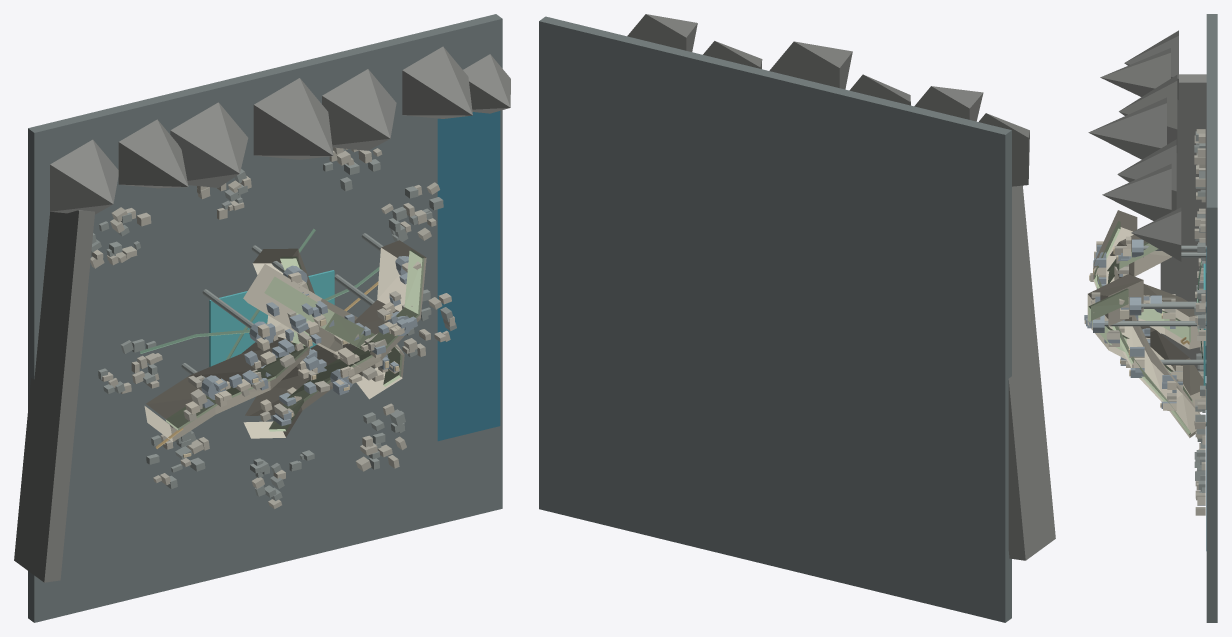
The model's file is B1-Monsoon-Folds.glb.
The picture shows the model from 3 angles, left to right: view 1: azimuth 30°, elevation 25°; view 2: azimuth 150°, elevation 25°; view 3: azimuth 270°, elevation 25°; orthographic projection. The views are drawn at different scales.
Parts seen in each view (by area): view 1: 10km_study_terrain, east_artificial_inland_sea, west_cliff_face, north_mountain_peak_4, inhabited_ecological_fold_2, inhabited_ecological_fold_1, north_mountain_peak_3, north_mountain_peak_5, north_mountain_peak_6, north_mountain_peak_1, north_mountain_peak_2, seasonal_floodplain_wet (+5 smaller); view 2: 10km_study_terrain, west_cliff_face, north_mountain_peak_4, north_mountain_peak_6, north_mountain_peak_2, north_mountain_peak_1, north_mountain_peak_3, north_mountain_peak_5; view 3: 10km_study_terrain, west_cliff_face, inhabited_ecological_fold_3, inhabited_ecological_fold_2, north_mountain_peak_4, north_mountain_peak_6, north_mountain_peak_2, inhabited_ecological_fold_1, north_mountain_peak_7, north_mountain_peak_5, north_mountain_peak_3, seasonal_habitat_band_1 (+10 smaller).
Boxes of the visible parts, x1=… form: 10km_study_terrain: x1=28, y1=14, x2=502, y2=622; east_artificial_inland_sea: x1=437, y1=111, x2=500, y2=441; west_cliff_face: x1=14, y1=210, x2=94, y2=582; north_mountain_peak_4: x1=253, y1=78, x2=333, y2=159; inhabited_ecological_fold_2: x1=243, y1=240, x2=426, y2=438; inhabited_ecological_fold_1: x1=144, y1=248, x2=314, y2=441; north_mountain_peak_3: x1=170, y1=102, x2=248, y2=187; north_mountain_peak_5: x1=322, y1=69, x2=396, y2=150; north_mountain_peak_6: x1=402, y1=46, x2=472, y2=118; north_mountain_peak_1: x1=50, y1=139, x2=118, y2=214; north_mountain_peak_2: x1=118, y1=119, x2=188, y2=188; seasonal_floodplain_wet: x1=209, y1=270, x2=334, y2=366; 10km_study_terrain: x1=539, y1=16, x2=1011, y2=622; west_cliff_face: x1=1008, y1=185, x2=1055, y2=560; north_mountain_peak_4: x1=769, y1=41, x2=852, y2=89; north_mountain_peak_6: x1=627, y1=14, x2=697, y2=51; north_mountain_peak_2: x1=914, y1=86, x2=983, y2=121; north_mountain_peak_1: x1=979, y1=113, x2=1029, y2=186; north_mountain_peak_3: x1=849, y1=74, x2=910, y2=105; north_mountain_peak_5: x1=703, y1=41, x2=762, y2=68; 10km_study_terrain: x1=1206, y1=14, x2=1217, y2=622; west_cliff_face: x1=1160, y1=74, x2=1206, y2=375; inhabited_ecological_fold_3: x1=1093, y1=210, x2=1206, y2=437; inhabited_ecological_fold_2: x1=1087, y1=274, x2=1206, y2=412; north_mountain_peak_4: x1=1088, y1=97, x2=1166, y2=159; north_mountain_peak_6: x1=1102, y1=163, x2=1171, y2=220; north_mountain_peak_2: x1=1100, y1=48, x2=1170, y2=96; inhabited_ecological_fold_1: x1=1110, y1=235, x2=1206, y2=349; north_mountain_peak_7: x1=1131, y1=207, x2=1181, y2=261; north_mountain_peak_5: x1=1117, y1=139, x2=1176, y2=211; north_mountain_peak_3: x1=1119, y1=75, x2=1177, y2=152; seasonal_habitat_band_1: x1=1107, y1=242, x2=1190, y2=342.
Bounding box in the file's own units: 10.37 × 10.27 × 2.9.
